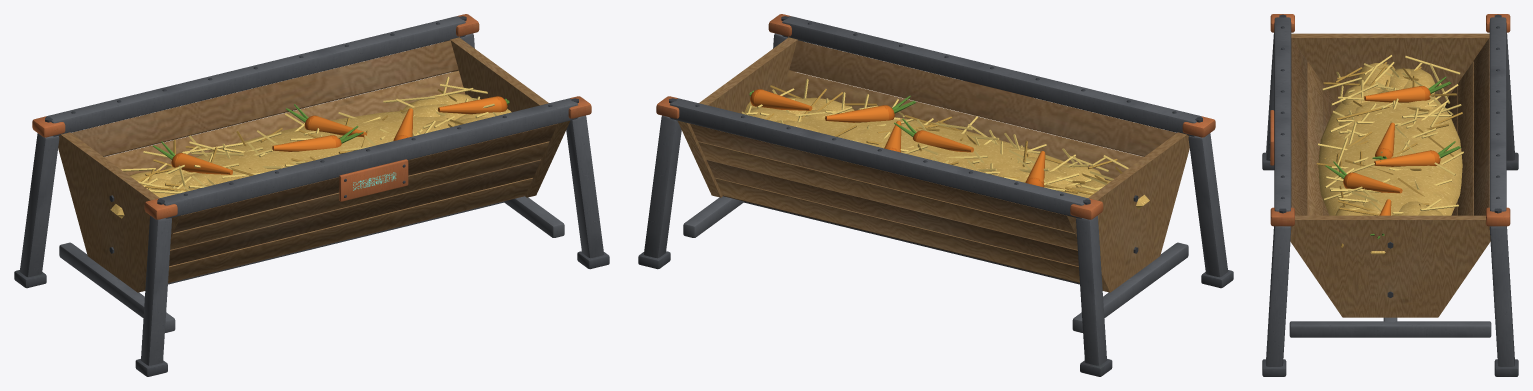
File: feeding_trough.glb
The picture shows the model from 3 angles, left to right: view 1: azimuth 30°, elevation 25°; view 2: azimuth 150°, elevation 25°; view 3: azimuth 270°, elevation 25°; orthographic projection. The views are drawn at different scales.
Parts seen in each view (by area): view 1: Tub, Frame, Fill3Feed; view 2: Tub, Frame, Fill3Feed; view 3: Tub, Fill3Feed, Frame.
Part boxes in pixels (left/top/right/bottom): Tub: left=58, top=37, right=570, bottom=292; Frame: left=14, top=14, right=609, bottom=376; Fill3Feed: left=110, top=76, right=511, bottom=218; Tub: left=677, top=37, right=1189, bottom=292; Frame: left=638, top=14, right=1233, bottom=376; Fill3Feed: left=741, top=79, right=1149, bottom=209; Tub: left=1290, top=33, right=1490, bottom=317; Fill3Feed: left=1316, top=55, right=1463, bottom=254; Frame: left=1262, top=14, right=1518, bottom=376.
Bounding box in the file's own units: 1.5 × 0.5089 × 0.75.
Materials: 13 (7 with a texture image).
